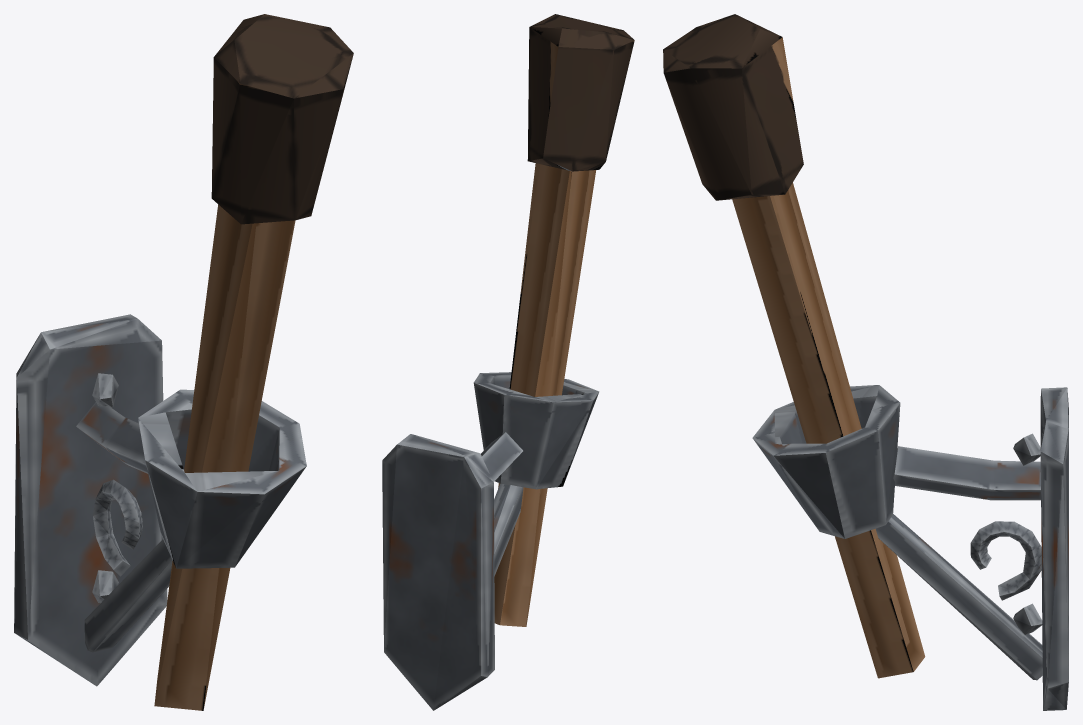
The model's file is torch_bracket_unreal_LOD1.glb.
3 views of the same model, side by side, from view 1: azimuth 30°, elevation 25°; view 2: azimuth 150°, elevation 25°; view 3: azimuth 270°, elevation 25° (orthographic). The views are drawn at different scales.
Parts seen in each view (by area): view 1: torch_bracket_unreal_static; view 2: torch_bracket_unreal_static; view 3: torch_bracket_unreal_static.
Part boxes in pixels (x1,y1,x2,y2): torch_bracket_unreal_static: [14, 14, 353, 710]; torch_bracket_unreal_static: [382, 14, 634, 710]; torch_bracket_unreal_static: [663, 14, 1068, 710].
Size of what is drawn, in the model's own units: 0.1078 by 0.5306 by 0.2855.
Materials: 3 (3 with a texture image).
